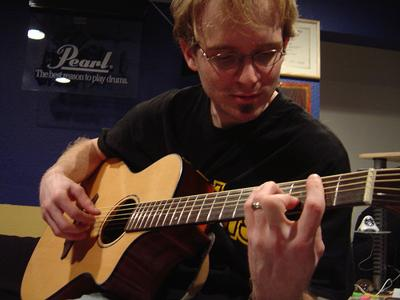person: (38, 2, 357, 298)
